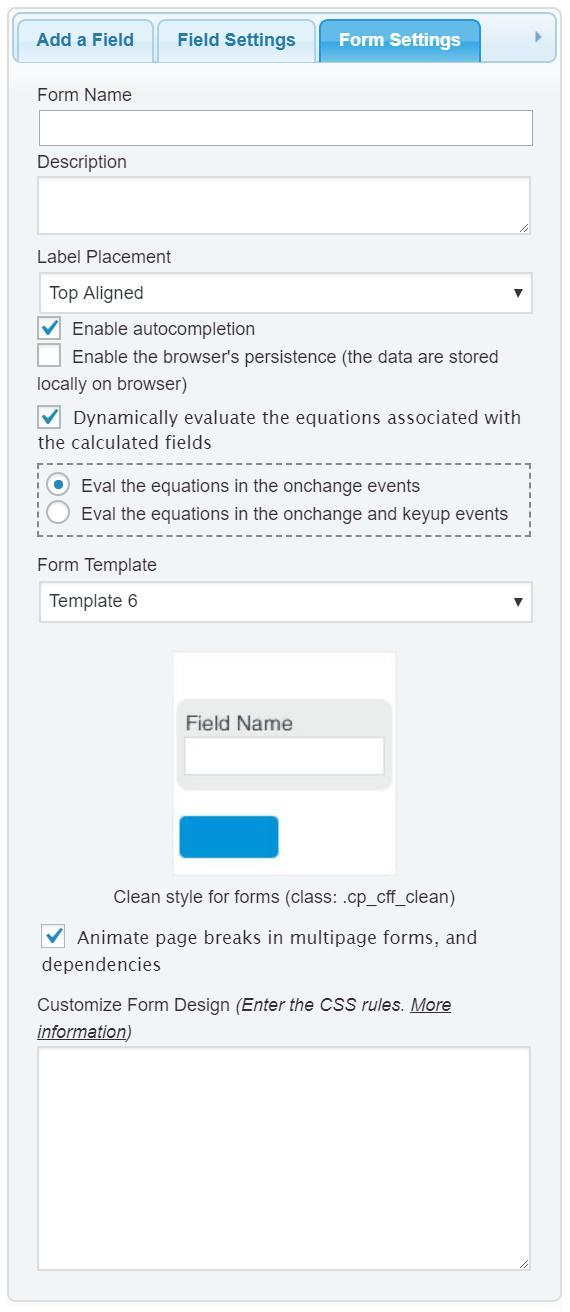button: (321, 18, 482, 63), (159, 20, 317, 63), (20, 23, 153, 64)
checkbox: (38, 406, 61, 433), (43, 926, 67, 950), (37, 345, 61, 368), (37, 318, 61, 339)
dropdown: (40, 585, 535, 624), (40, 275, 536, 313)
input: (39, 179, 530, 236), (40, 111, 533, 149), (186, 736, 384, 772)
label: (71, 406, 527, 457), (73, 351, 491, 397), (77, 502, 516, 532), (77, 474, 430, 497), (72, 319, 260, 345), (33, 555, 174, 582), (36, 242, 185, 267), (184, 708, 303, 739), (35, 82, 138, 105), (31, 152, 134, 174)
radio: (44, 500, 74, 528), (44, 471, 71, 500)
